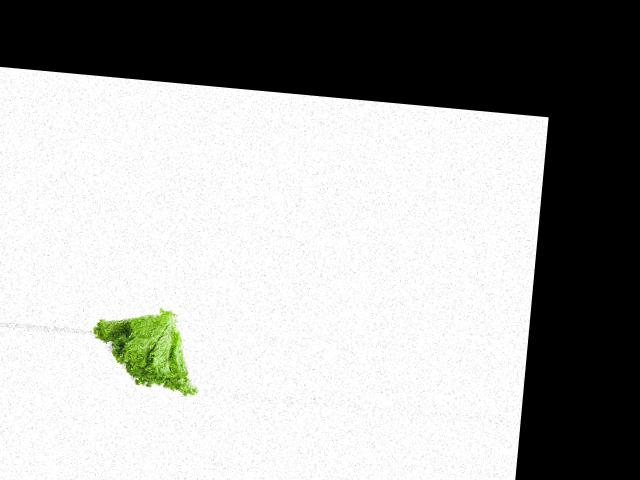lettuce: (86, 304, 205, 399)
